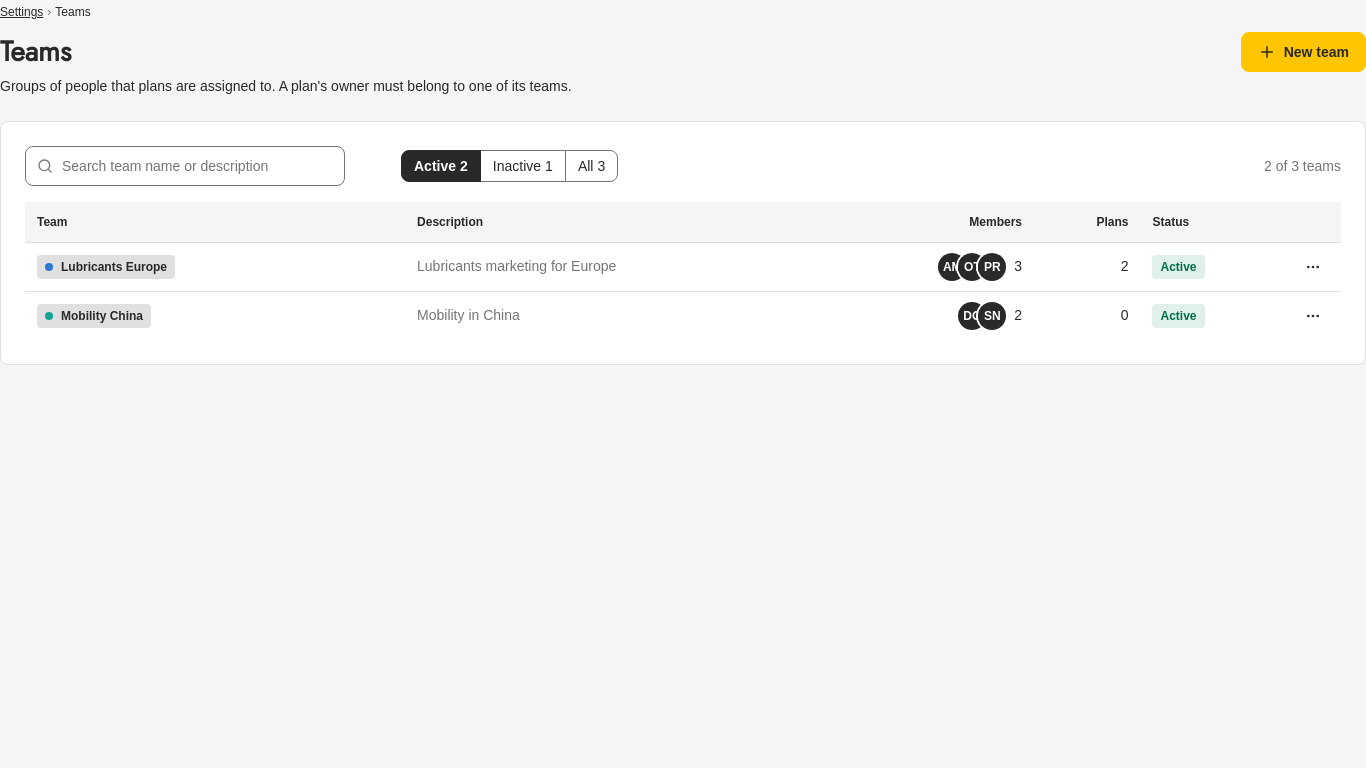
it: TeamsPage (feature 003, US2): New team and Edit team › says who saved first after a conflict and saves with their version next time
Click the button named "Actions for Mobility China".
click(1313, 316)  # box x1=1297 y1=300 x2=1329 y2=332
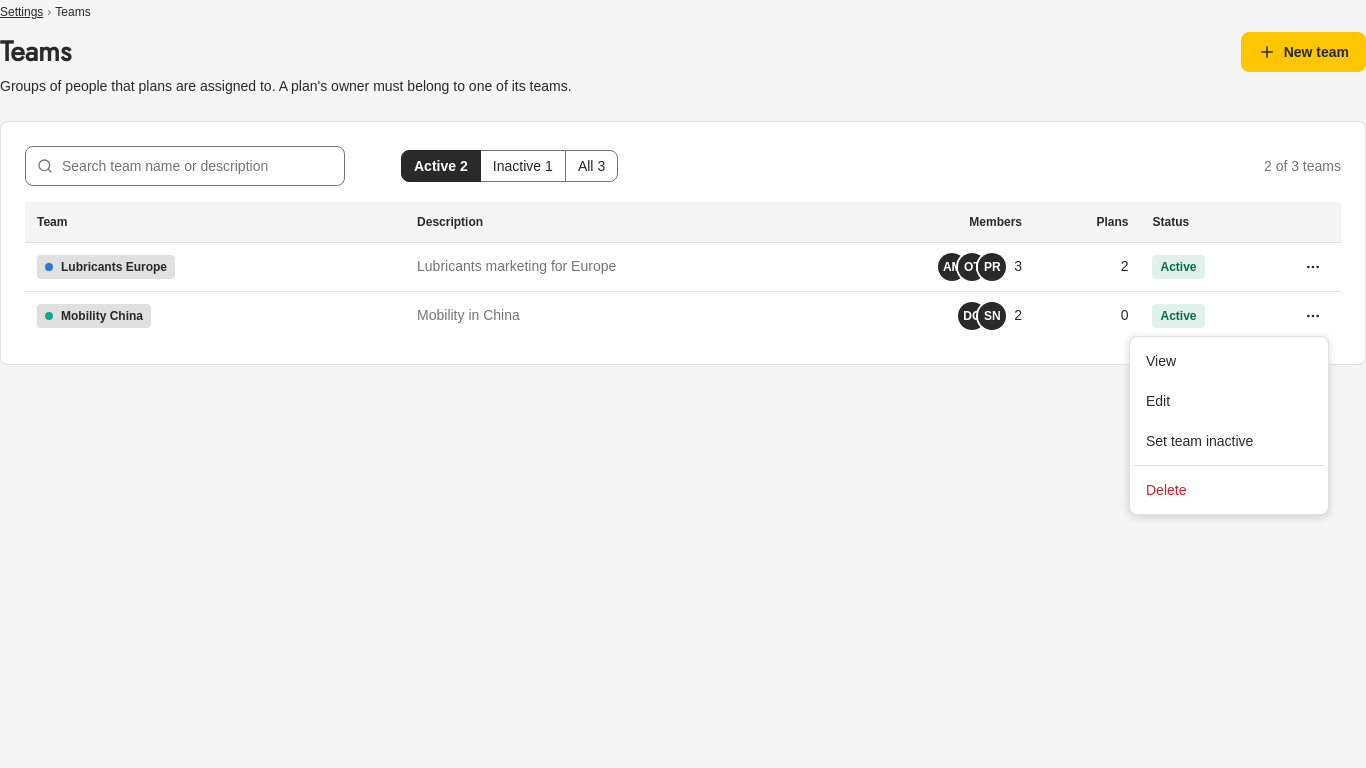
Click the menu item "Edit".
click(1158, 401)  # box x1=1146 y1=393 x2=1170 y2=409
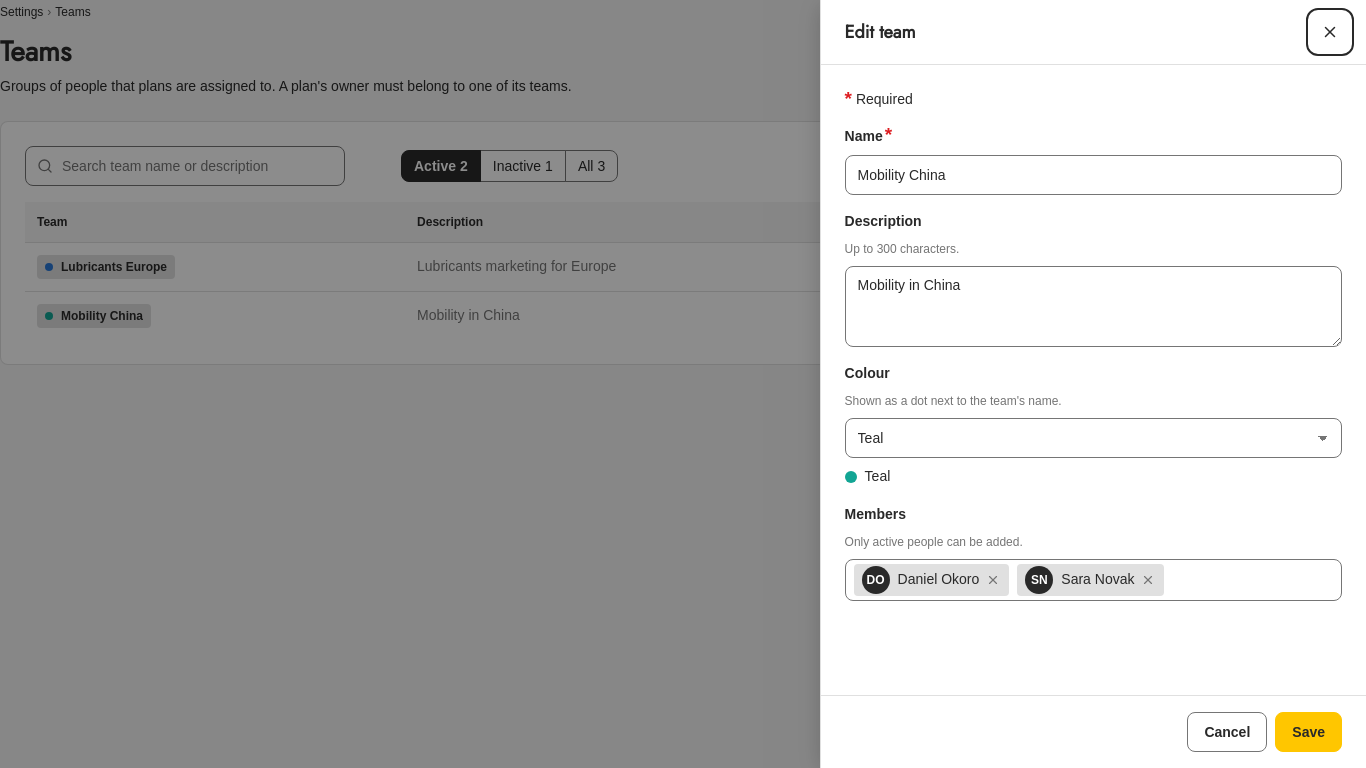
Type " and Hong Kong" into the text box labelled "Description".
click(1093, 306); type(" and Hong Kong")  # box x1=845 y1=266 x2=1342 y2=347
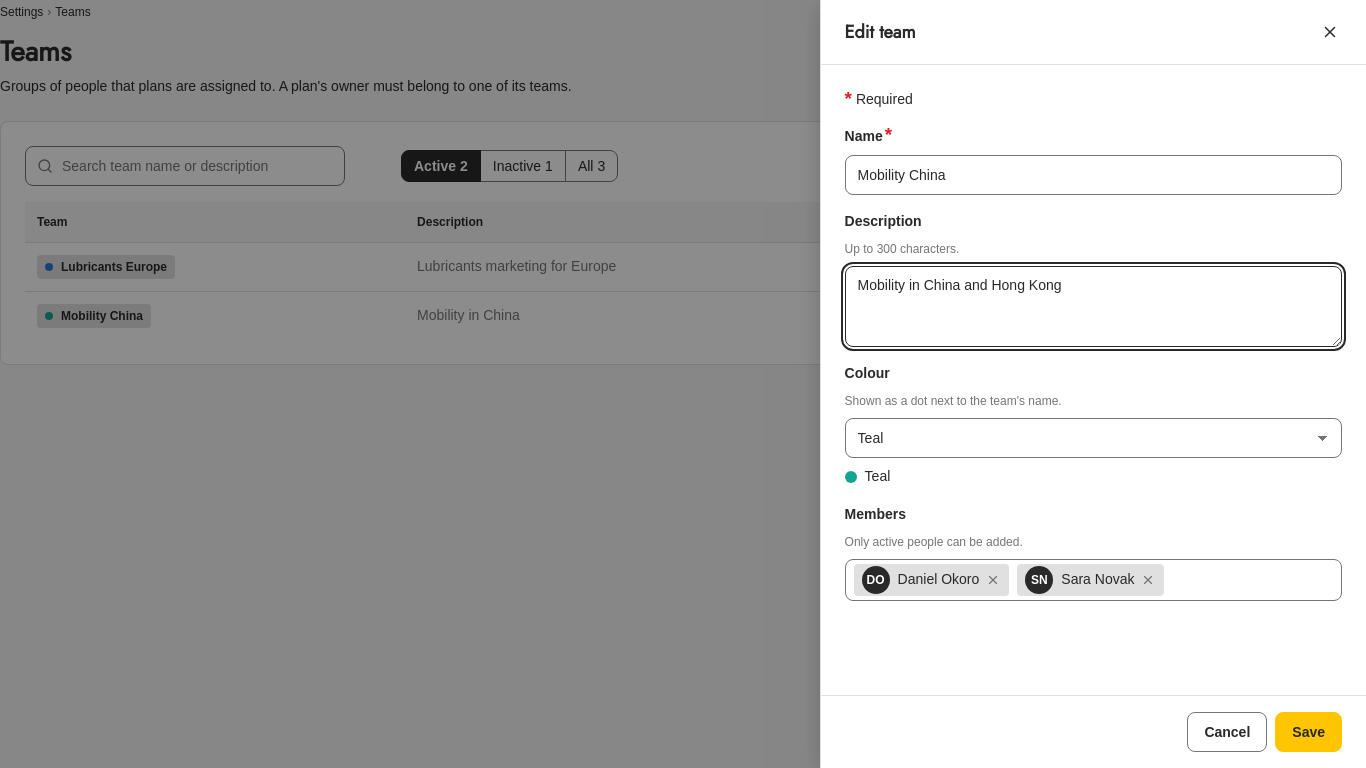
Click the button "Save".
click(1309, 732)  # box x1=1275 y1=712 x2=1342 y2=752
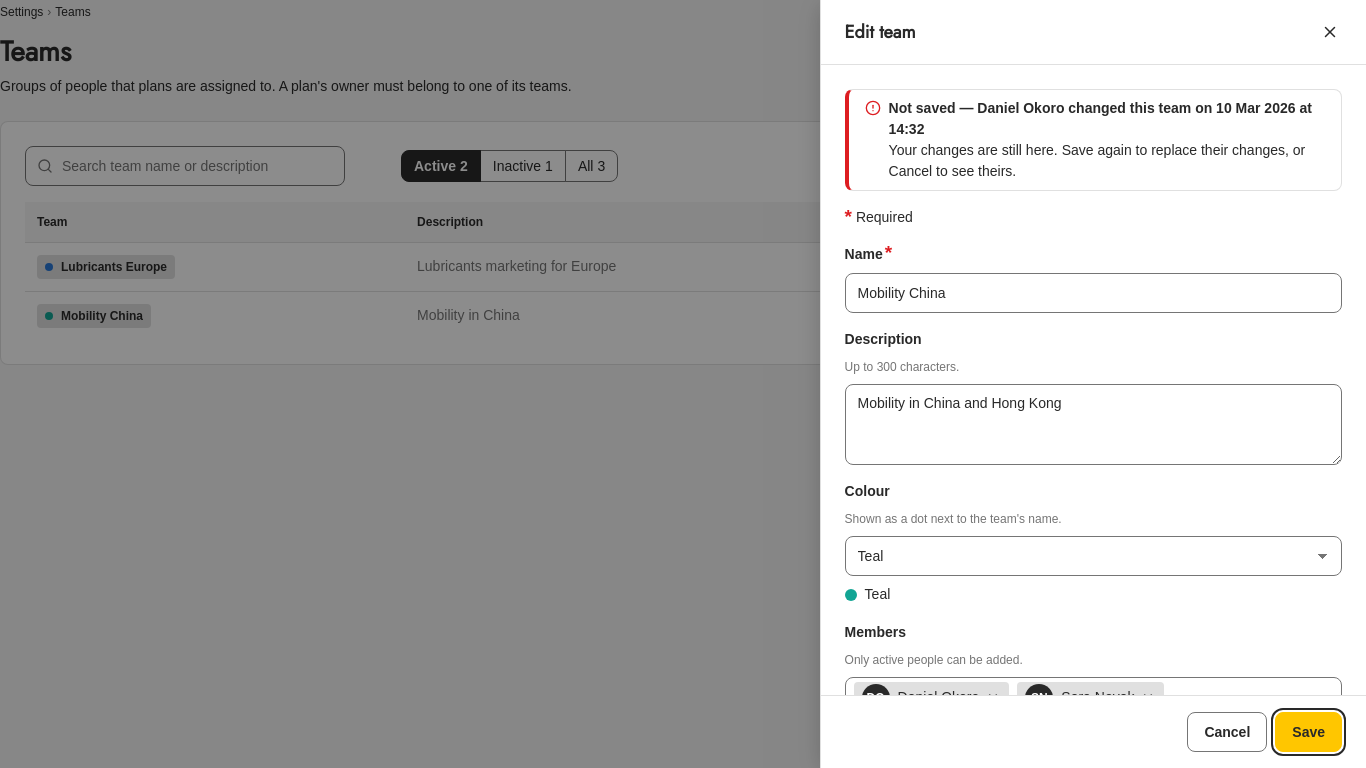
Result: the text "Not saved — Daniel Okoro changed this team on 10 Mar 2026 at 14:32" is shown at x1=889 y1=98 x2=1325 y2=140
Result: the text "Your changes are still here. Save again to replace their changes, or Cancel to see theirs." is shown at x1=889 y1=142 x2=1305 y2=179
Click the button "Save".
click(1309, 732)  # box x1=1275 y1=712 x2=1342 y2=752
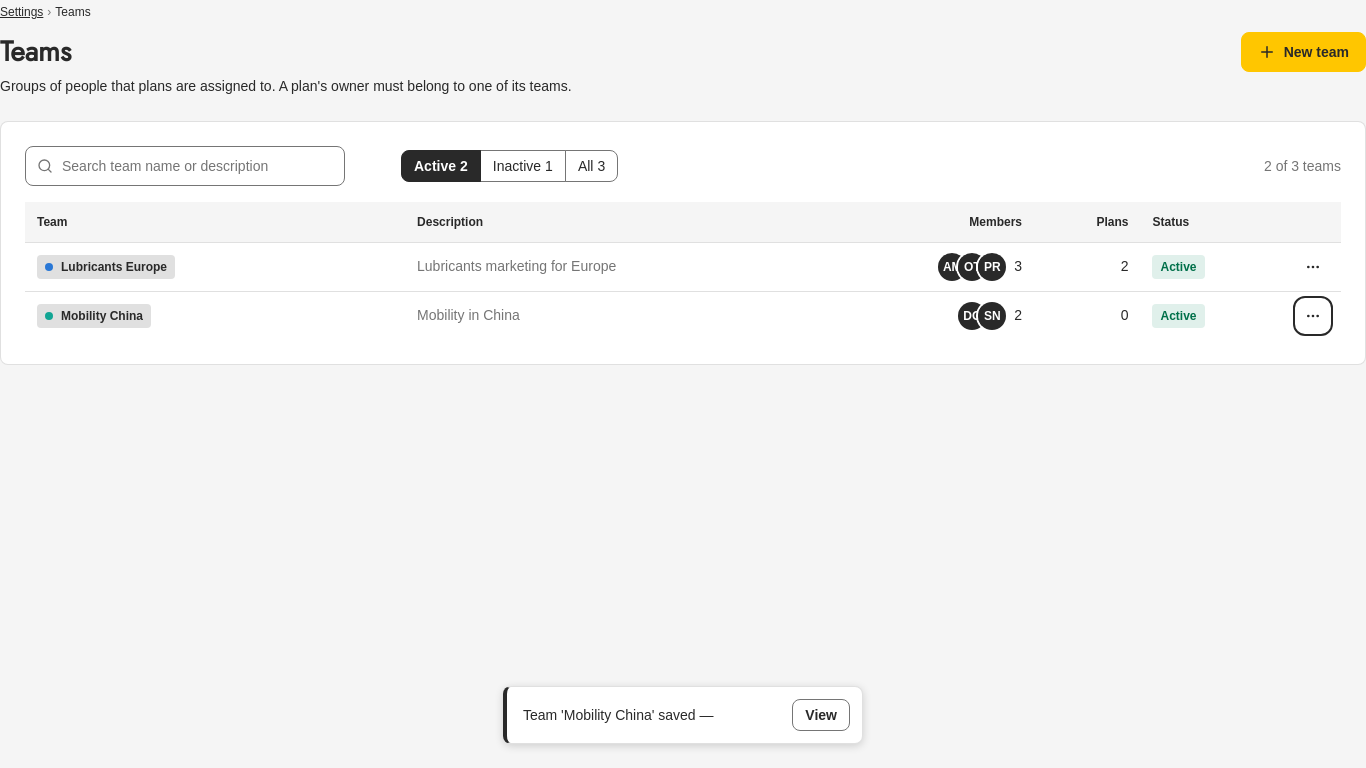
Result: the text "Team 'Mobility China' saved" is shown at x1=523 y1=706 x2=700 y2=722
